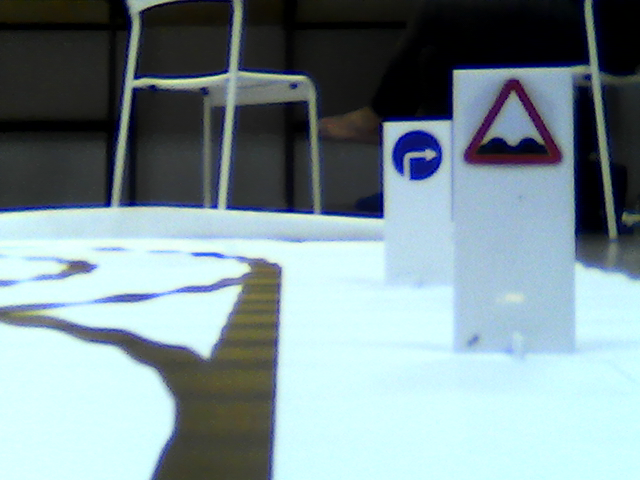Nerov: (465, 77, 561, 167)
Right: (390, 130, 444, 181)
